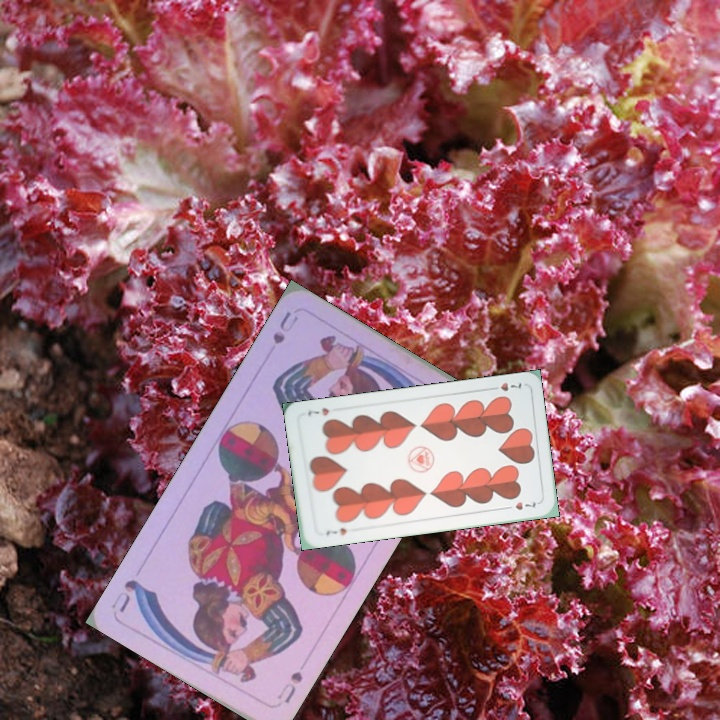H7: (485, 378, 525, 394), (322, 524, 349, 538)
SU: (268, 307, 301, 347), (273, 667, 306, 706)
